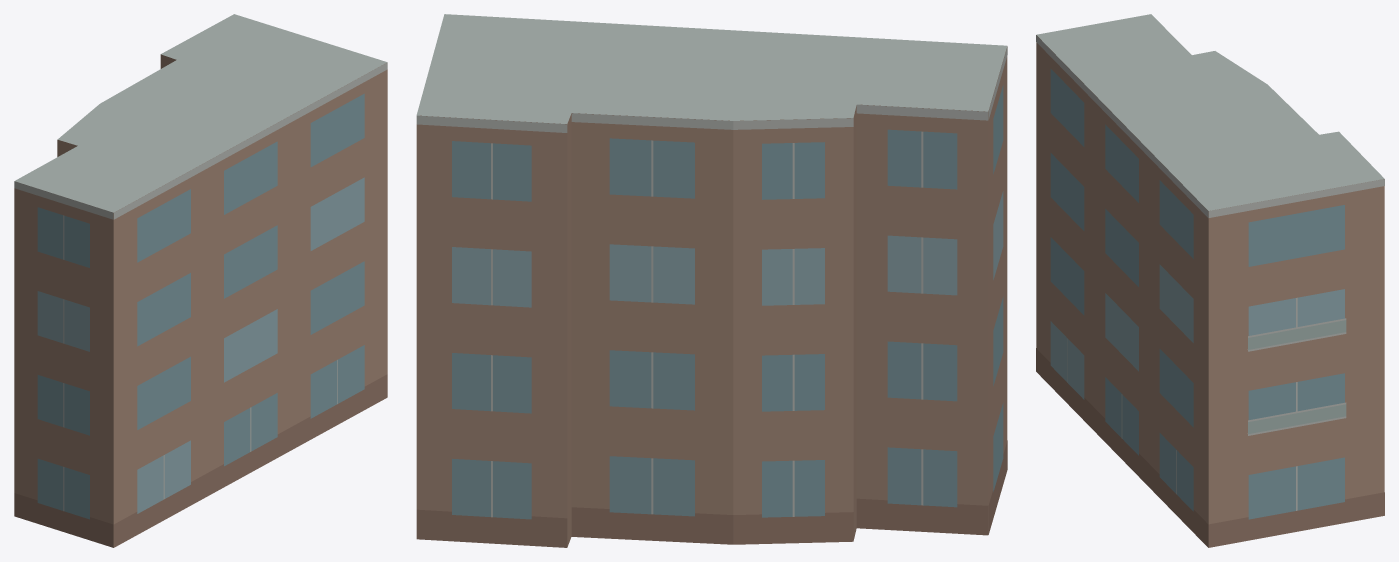
The model's file is survey-upis-32506313.glb.
The picture shows the model from 3 angles, left to right: view 1: azimuth 30°, elevation 25°; view 2: azimuth 150°, elevation 25°; view 3: azimuth 270°, elevation 25°; orthographic projection. The views are drawn at different scales.
Visible parts, largest first — view 1: survey-upis-32506313.tmp; view 2: survey-upis-32506313.tmp; view 3: survey-upis-32506313.tmp.
Part boxes in pixels (x1,y1,x2,y2): survey-upis-32506313.tmp: (14, 14, 387, 547); survey-upis-32506313.tmp: (416, 14, 1007, 547); survey-upis-32506313.tmp: (1036, 14, 1384, 547).
Size of the model in its own units: 14.44 by 11.5 by 10.8.
